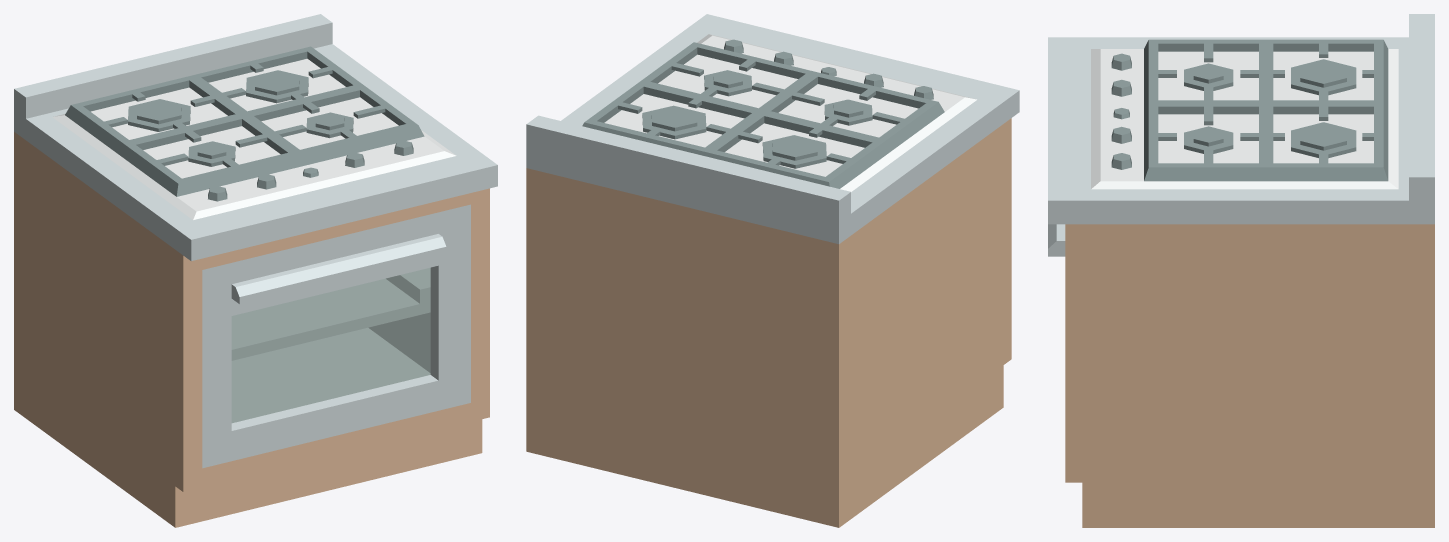
The model's file is kn-kitchen-stove.glb.
3 views of the same model, side by side, from view 1: azimuth 30°, elevation 25°; view 2: azimuth 150°, elevation 25°; view 3: azimuth 270°, elevation 25° (orthographic). The views are drawn at different scales.
Visible parts, largest first — view 1: kitchenStove(Clone), door; view 2: kitchenStove(Clone); view 3: kitchenStove(Clone).
Part boxes in pixels (left/top/right/bottom): kitchenStove(Clone): left=14, top=14, right=497, bottom=527; door: left=231, top=268, right=430, bottom=422; kitchenStove(Clone): left=526, top=14, right=1019, bottom=527; kitchenStove(Clone): left=1048, top=14, right=1434, bottom=527.
Size of the model in its own units: 1 by 1 by 1.
